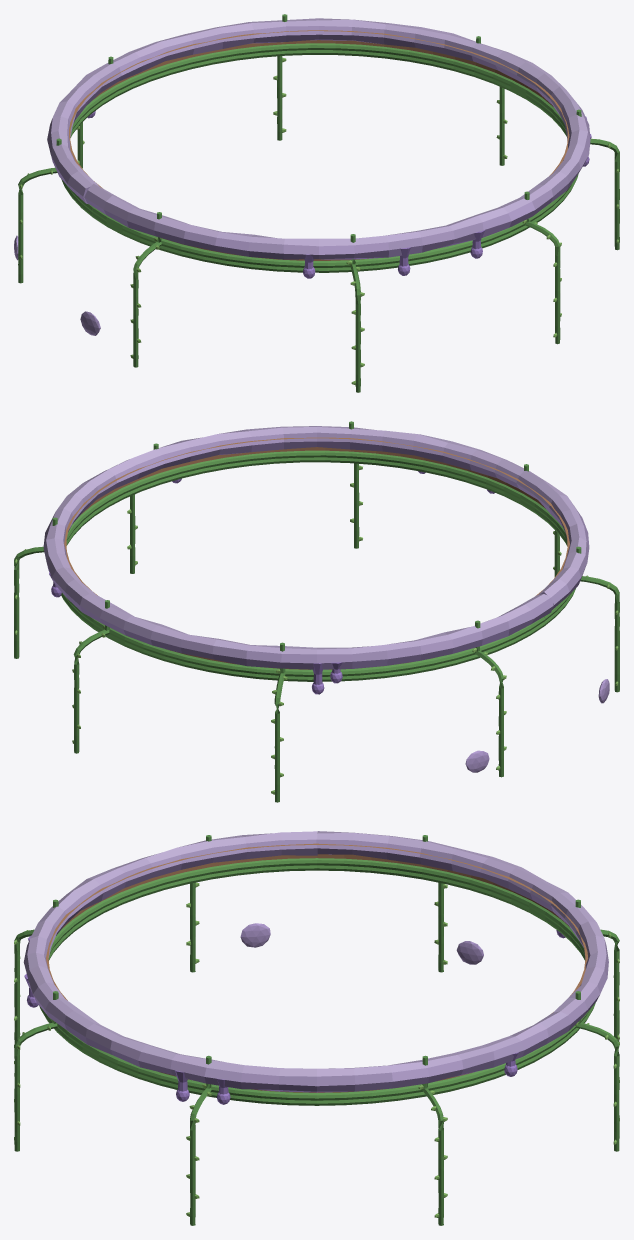
The model's file is goo_jar_trim_1_mid@mushroom.fbx.
The picture shows the model from 3 angles, top to bottom: view 1: azimuth 30°, elevation 25°; view 2: azimuth 150°, elevation 25°; view 3: azimuth 270°, elevation 25°; orthographic projection. The views are drawn at different scales.
Visible parts, largest first — view 1: goo_jar_trim_1_mid; view 2: goo_jar_trim_1_mid; view 3: goo_jar_trim_1_mid.
Part boxes in pixels (box(x1,y1,x2,y2)): goo_jar_trim_1_mid: box(14, 14, 619, 392); goo_jar_trim_1_mid: box(14, 421, 619, 802); goo_jar_trim_1_mid: box(14, 831, 619, 1225).
Size of the model in its own units: 60.29 by 16.05 by 58.23.
